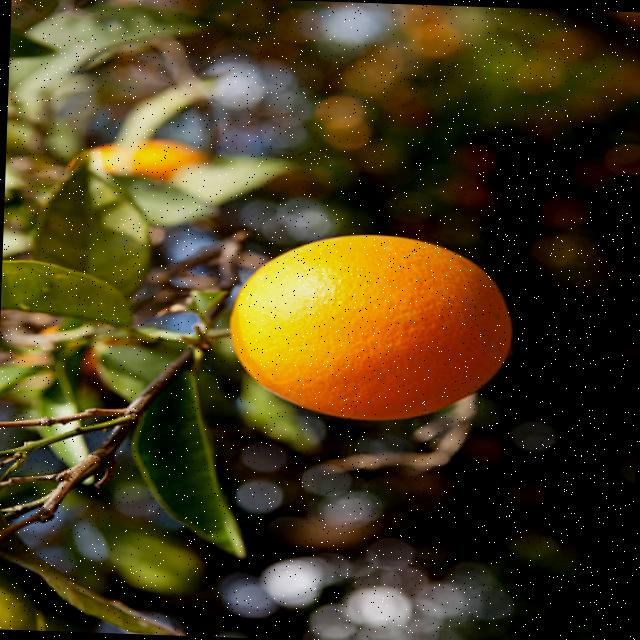Ripe: (216, 225, 519, 429)
